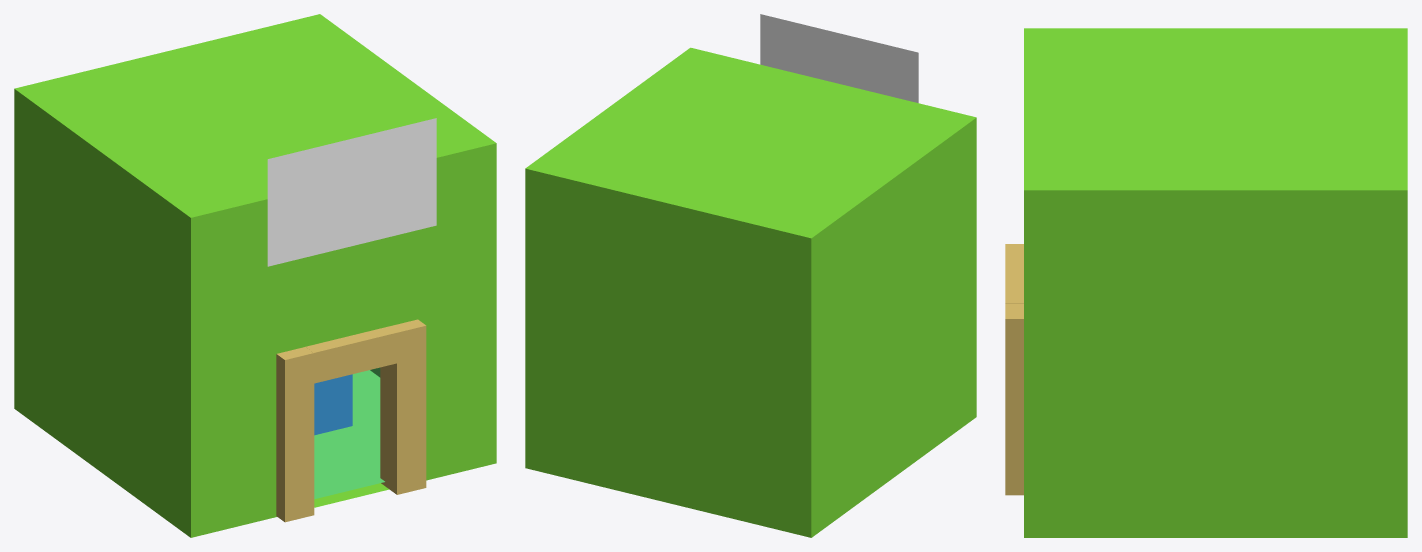
The model's file is ruangan.glb.
3 views of the same model, side by side, from view 1: azimuth 30°, elevation 25°; view 2: azimuth 150°, elevation 25°; view 3: azimuth 270°, elevation 25° (orthographic). The views are drawn at different scales.
Parts seen in each view (by area): view 1: mask, plane, pintu, tembok, blue; view 2: mask, plane; view 3: mask, pintu.
Part boxes in pixels (<box>): mask: <box>14,14,496,537</box>; plane: <box>267,118,436,266</box>; pintu: <box>276,319,426,522</box>; tembok: <box>314,367,384,499</box>; blue: <box>314,374,352,435</box>; mask: <box>525,47,976,537</box>; plane: <box>760,14,918,102</box>; mask: <box>1024,28,1407,537</box>; pintu: <box>1005,244,1023,495</box>.
Size of the model in its own units: 4.66 by 5.34 by 4.88.
